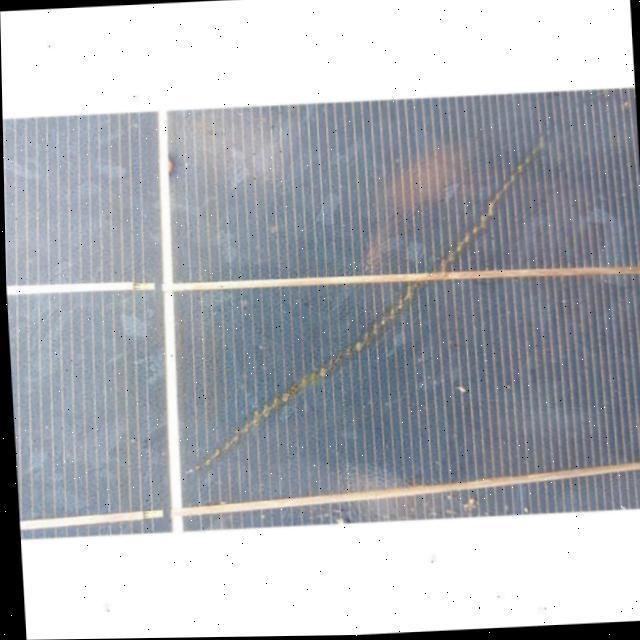Structural Damage: (165, 275, 429, 483), (422, 135, 552, 276)
